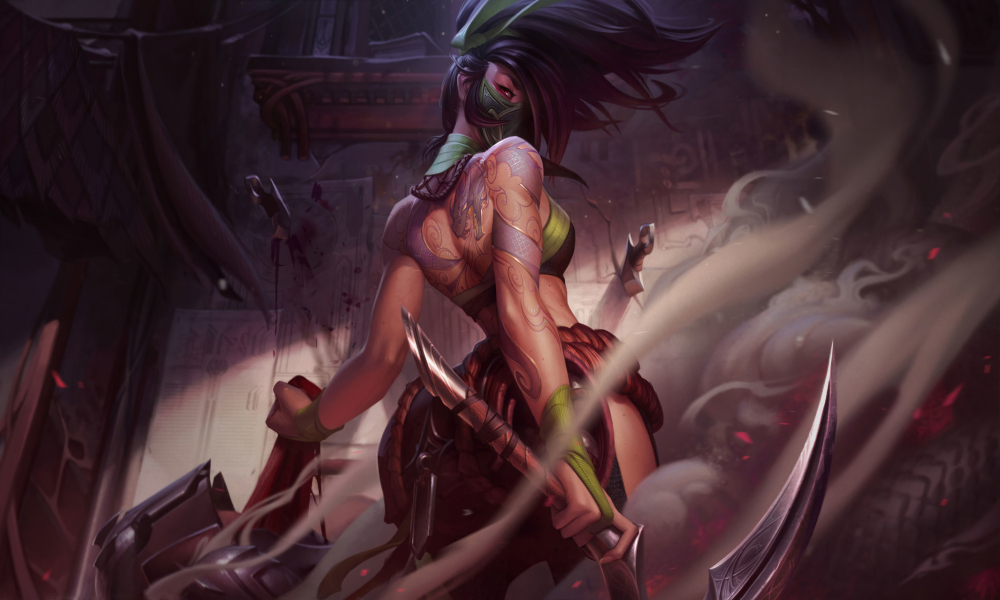face: (408, 1, 728, 179)
